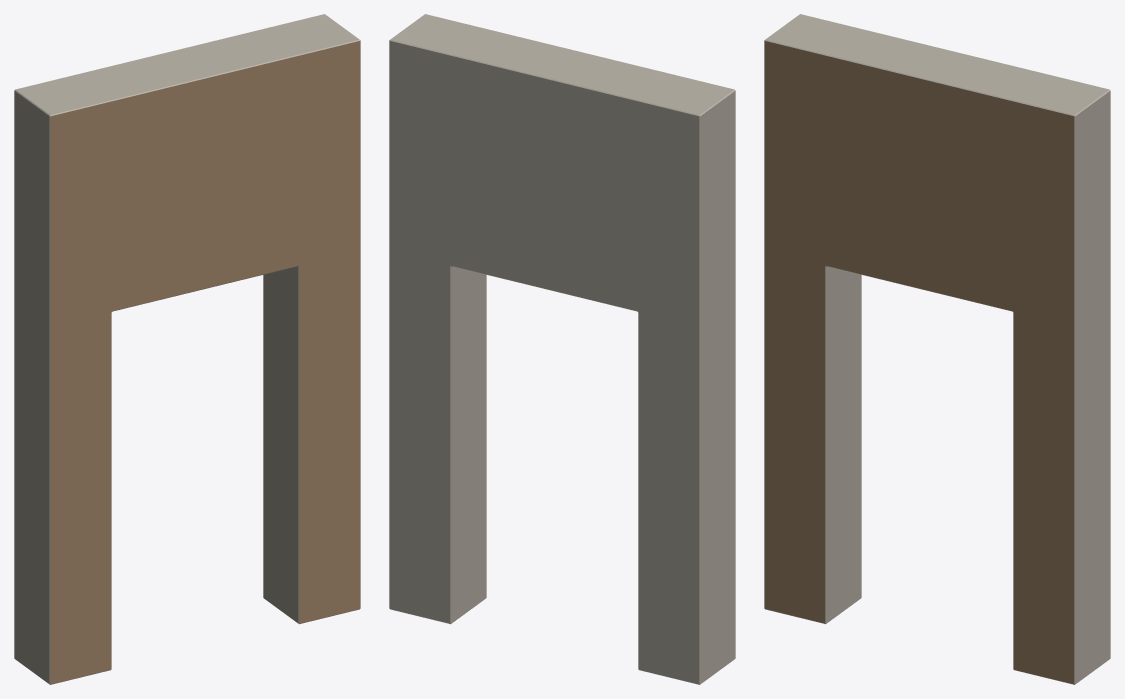
Rendered from arch_wall_ext_door_service_w200_h350.glb.
3 renders of one model, left to right at view 1: azimuth 30°, elevation 25°; view 2: azimuth 150°, elevation 25°; view 3: azimuth 330°, elevation 25°, orthographic.
Parts seen in each view (by area): view 1: Wall; view 2: Wall; view 3: Wall.
Part boxes in pixels (box(x1,y1,x2,y2)): Wall: box(14, 14, 360, 684); Wall: box(389, 14, 735, 684); Wall: box(764, 14, 1110, 684).
Size of what is drawn, in the model's own units: 2 by 3.5 by 0.4.
